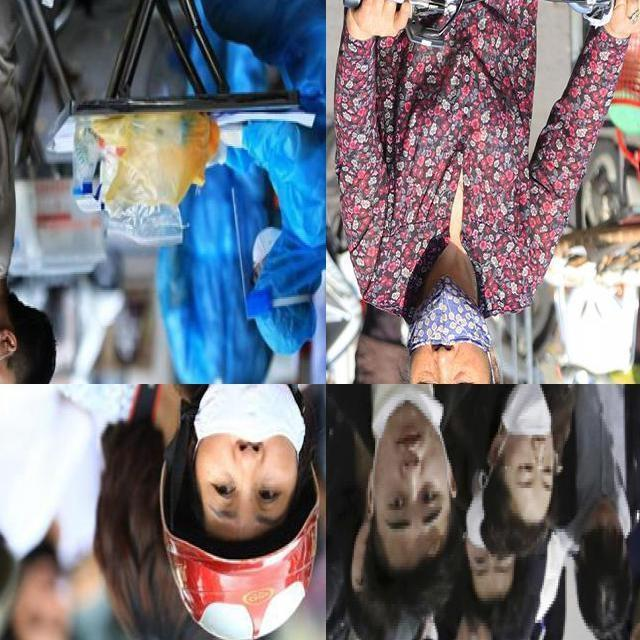hairnet: (201, 384, 296, 486), (369, 388, 452, 476), (414, 291, 483, 383), (494, 382, 548, 456)
